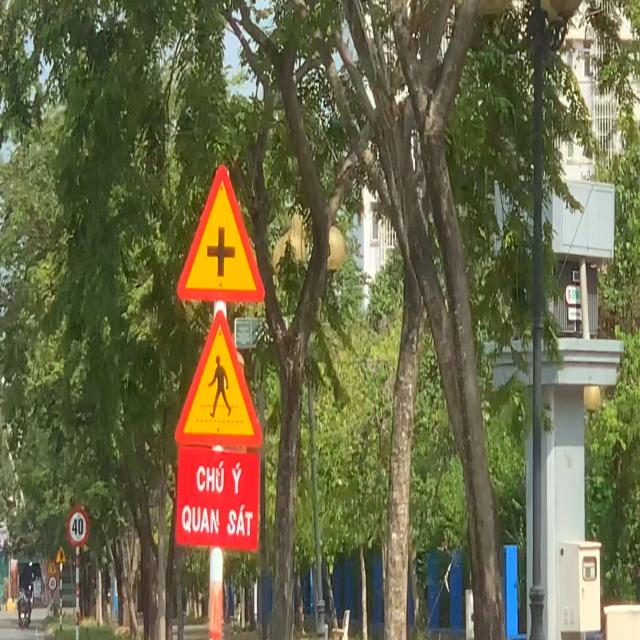Duong giao nhau: (175, 153, 269, 310)
Giao voi duong khong uu tien: (55, 546, 70, 566)
Nguoi di bo cat ngang: (172, 306, 266, 452)
Toc do toi da: (65, 506, 92, 548)
